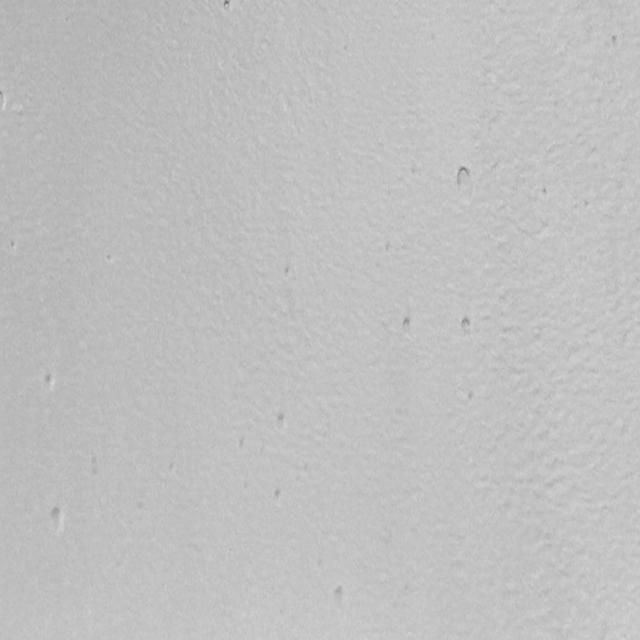pin holes: (451, 163, 475, 194), (48, 504, 68, 534), (455, 313, 476, 338), (329, 583, 349, 608), (272, 409, 290, 435), (270, 485, 289, 507), (42, 371, 59, 392), (401, 313, 416, 334), (608, 34, 624, 52), (221, 0, 238, 15), (0, 89, 8, 112)
